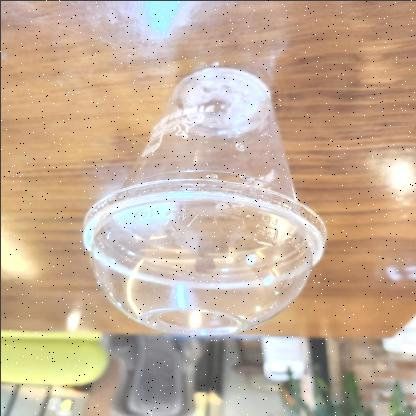Others: (81, 63, 324, 336)
